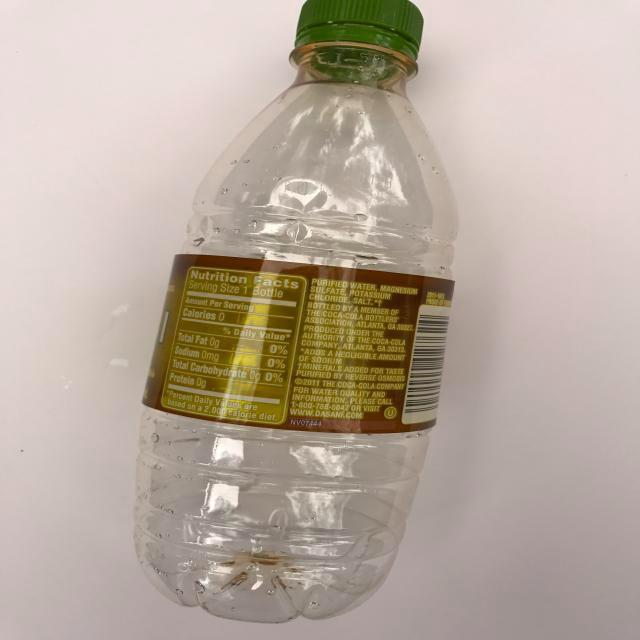plastic: (119, 0, 465, 633)
